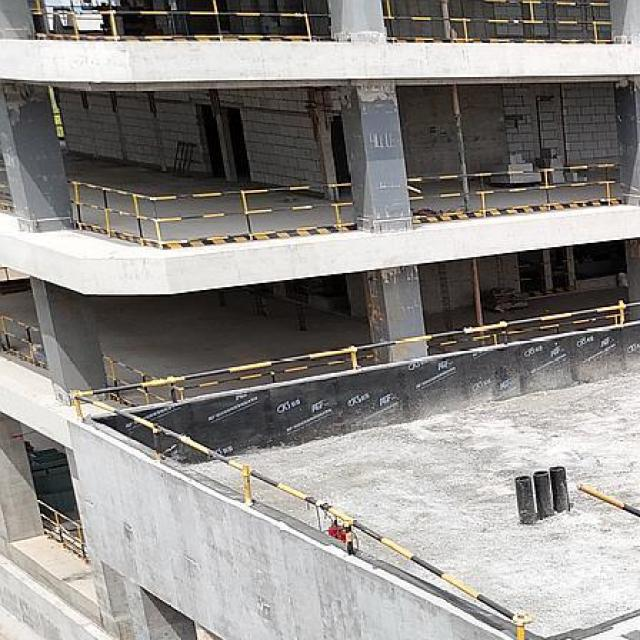Guardrail: (70, 298, 640, 640), (101, 311, 634, 406), (66, 178, 358, 246), (26, 0, 331, 43), (407, 162, 623, 221), (382, 0, 613, 41), (37, 494, 89, 564), (574, 483, 640, 527), (0, 314, 47, 366), (0, 266, 10, 281)
